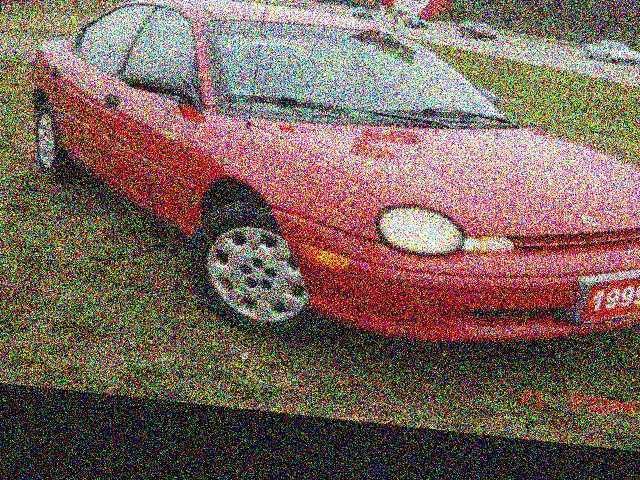car: (0, 0, 640, 410)
